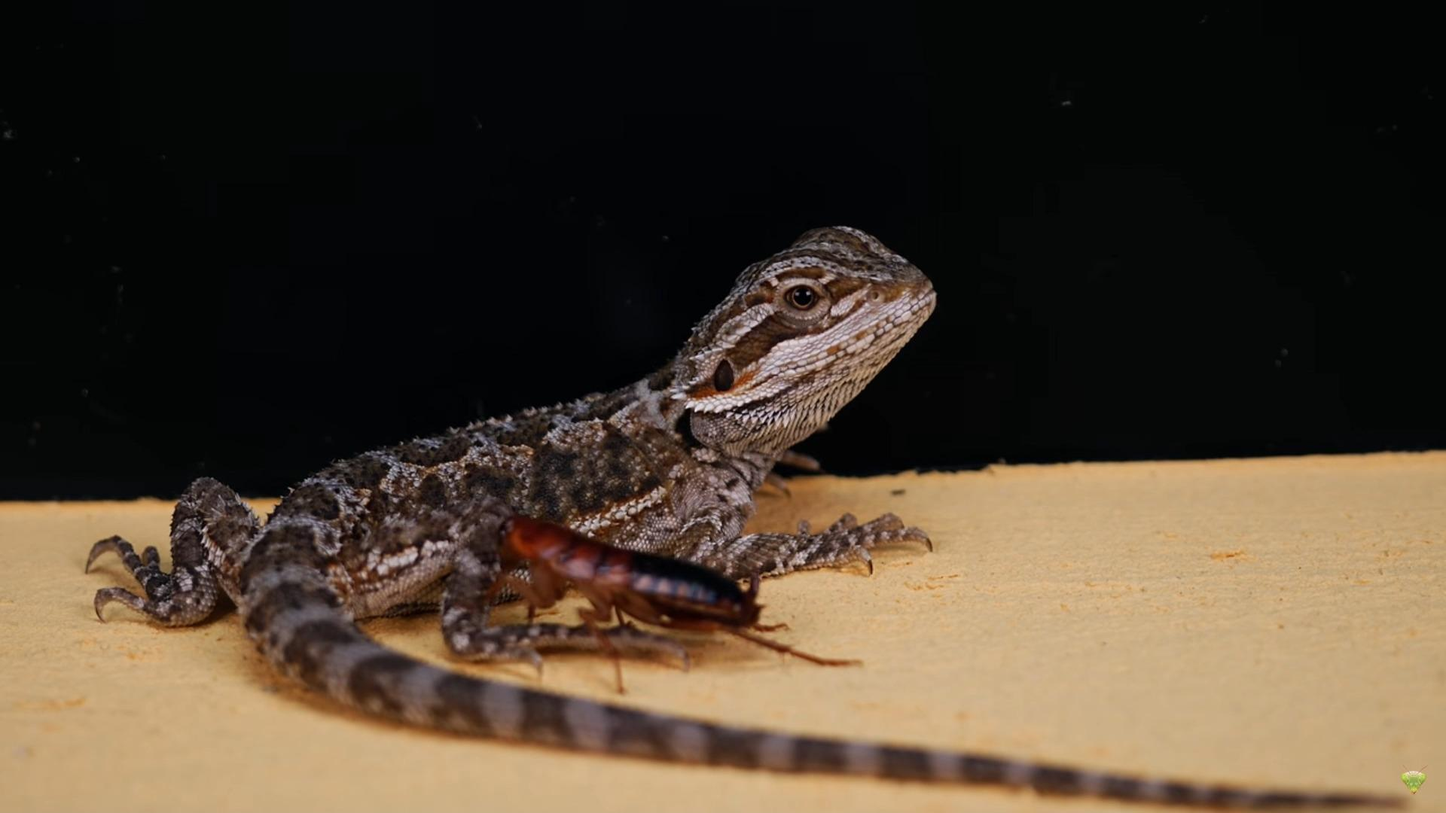cockroach: (483, 503, 760, 664)
lizard: (116, 212, 938, 761)
